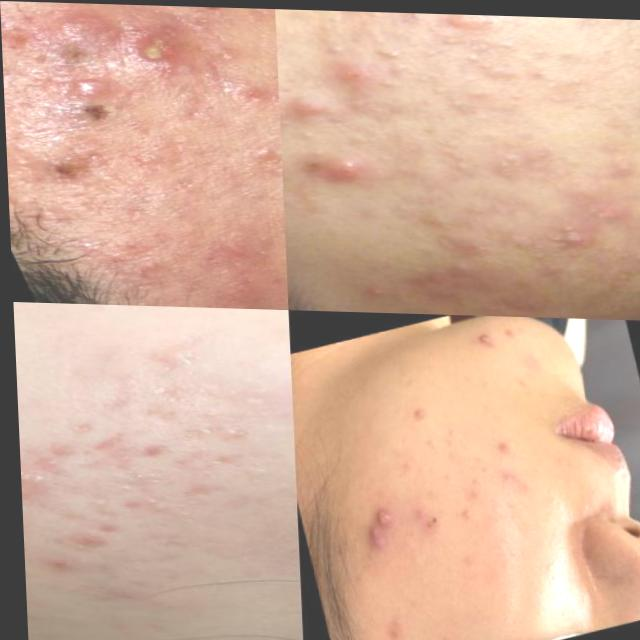8: (32, 7, 115, 59), (35, 66, 133, 109), (314, 46, 393, 88), (16, 458, 67, 511), (426, 224, 494, 262), (278, 86, 346, 121), (381, 388, 426, 434), (45, 524, 108, 556), (429, 10, 506, 36), (469, 420, 514, 463), (117, 435, 175, 463), (405, 498, 438, 540)
9: (291, 139, 387, 193), (456, 314, 493, 349), (482, 457, 517, 494), (440, 490, 469, 528)
blackheads: (110, 13, 200, 81), (560, 182, 628, 228), (74, 430, 142, 475), (541, 214, 600, 254), (153, 419, 206, 448), (120, 400, 178, 423), (351, 518, 378, 561), (363, 486, 390, 525), (36, 436, 71, 459)
